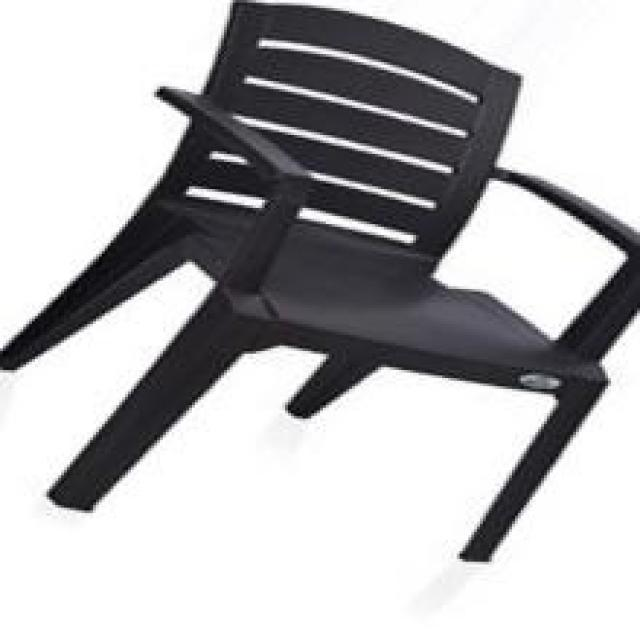chair: (3, 2, 640, 572)
